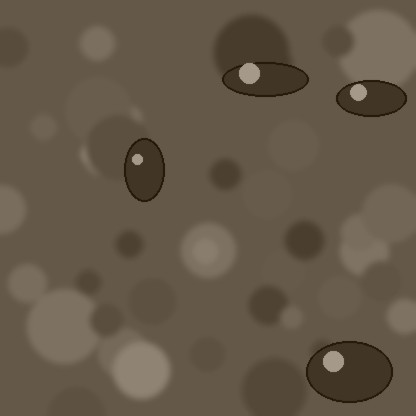gota: (306, 343, 392, 407), (222, 63, 308, 99), (336, 81, 406, 119), (124, 140, 164, 206)
